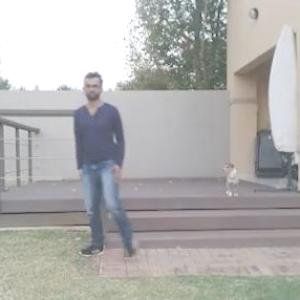follow: (72, 66, 132, 265)
